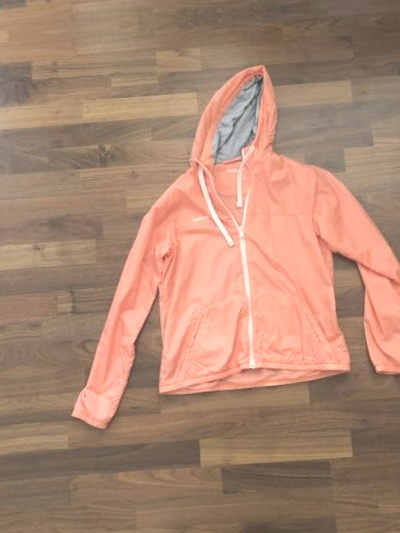Hoodie: (48, 60, 400, 461)
